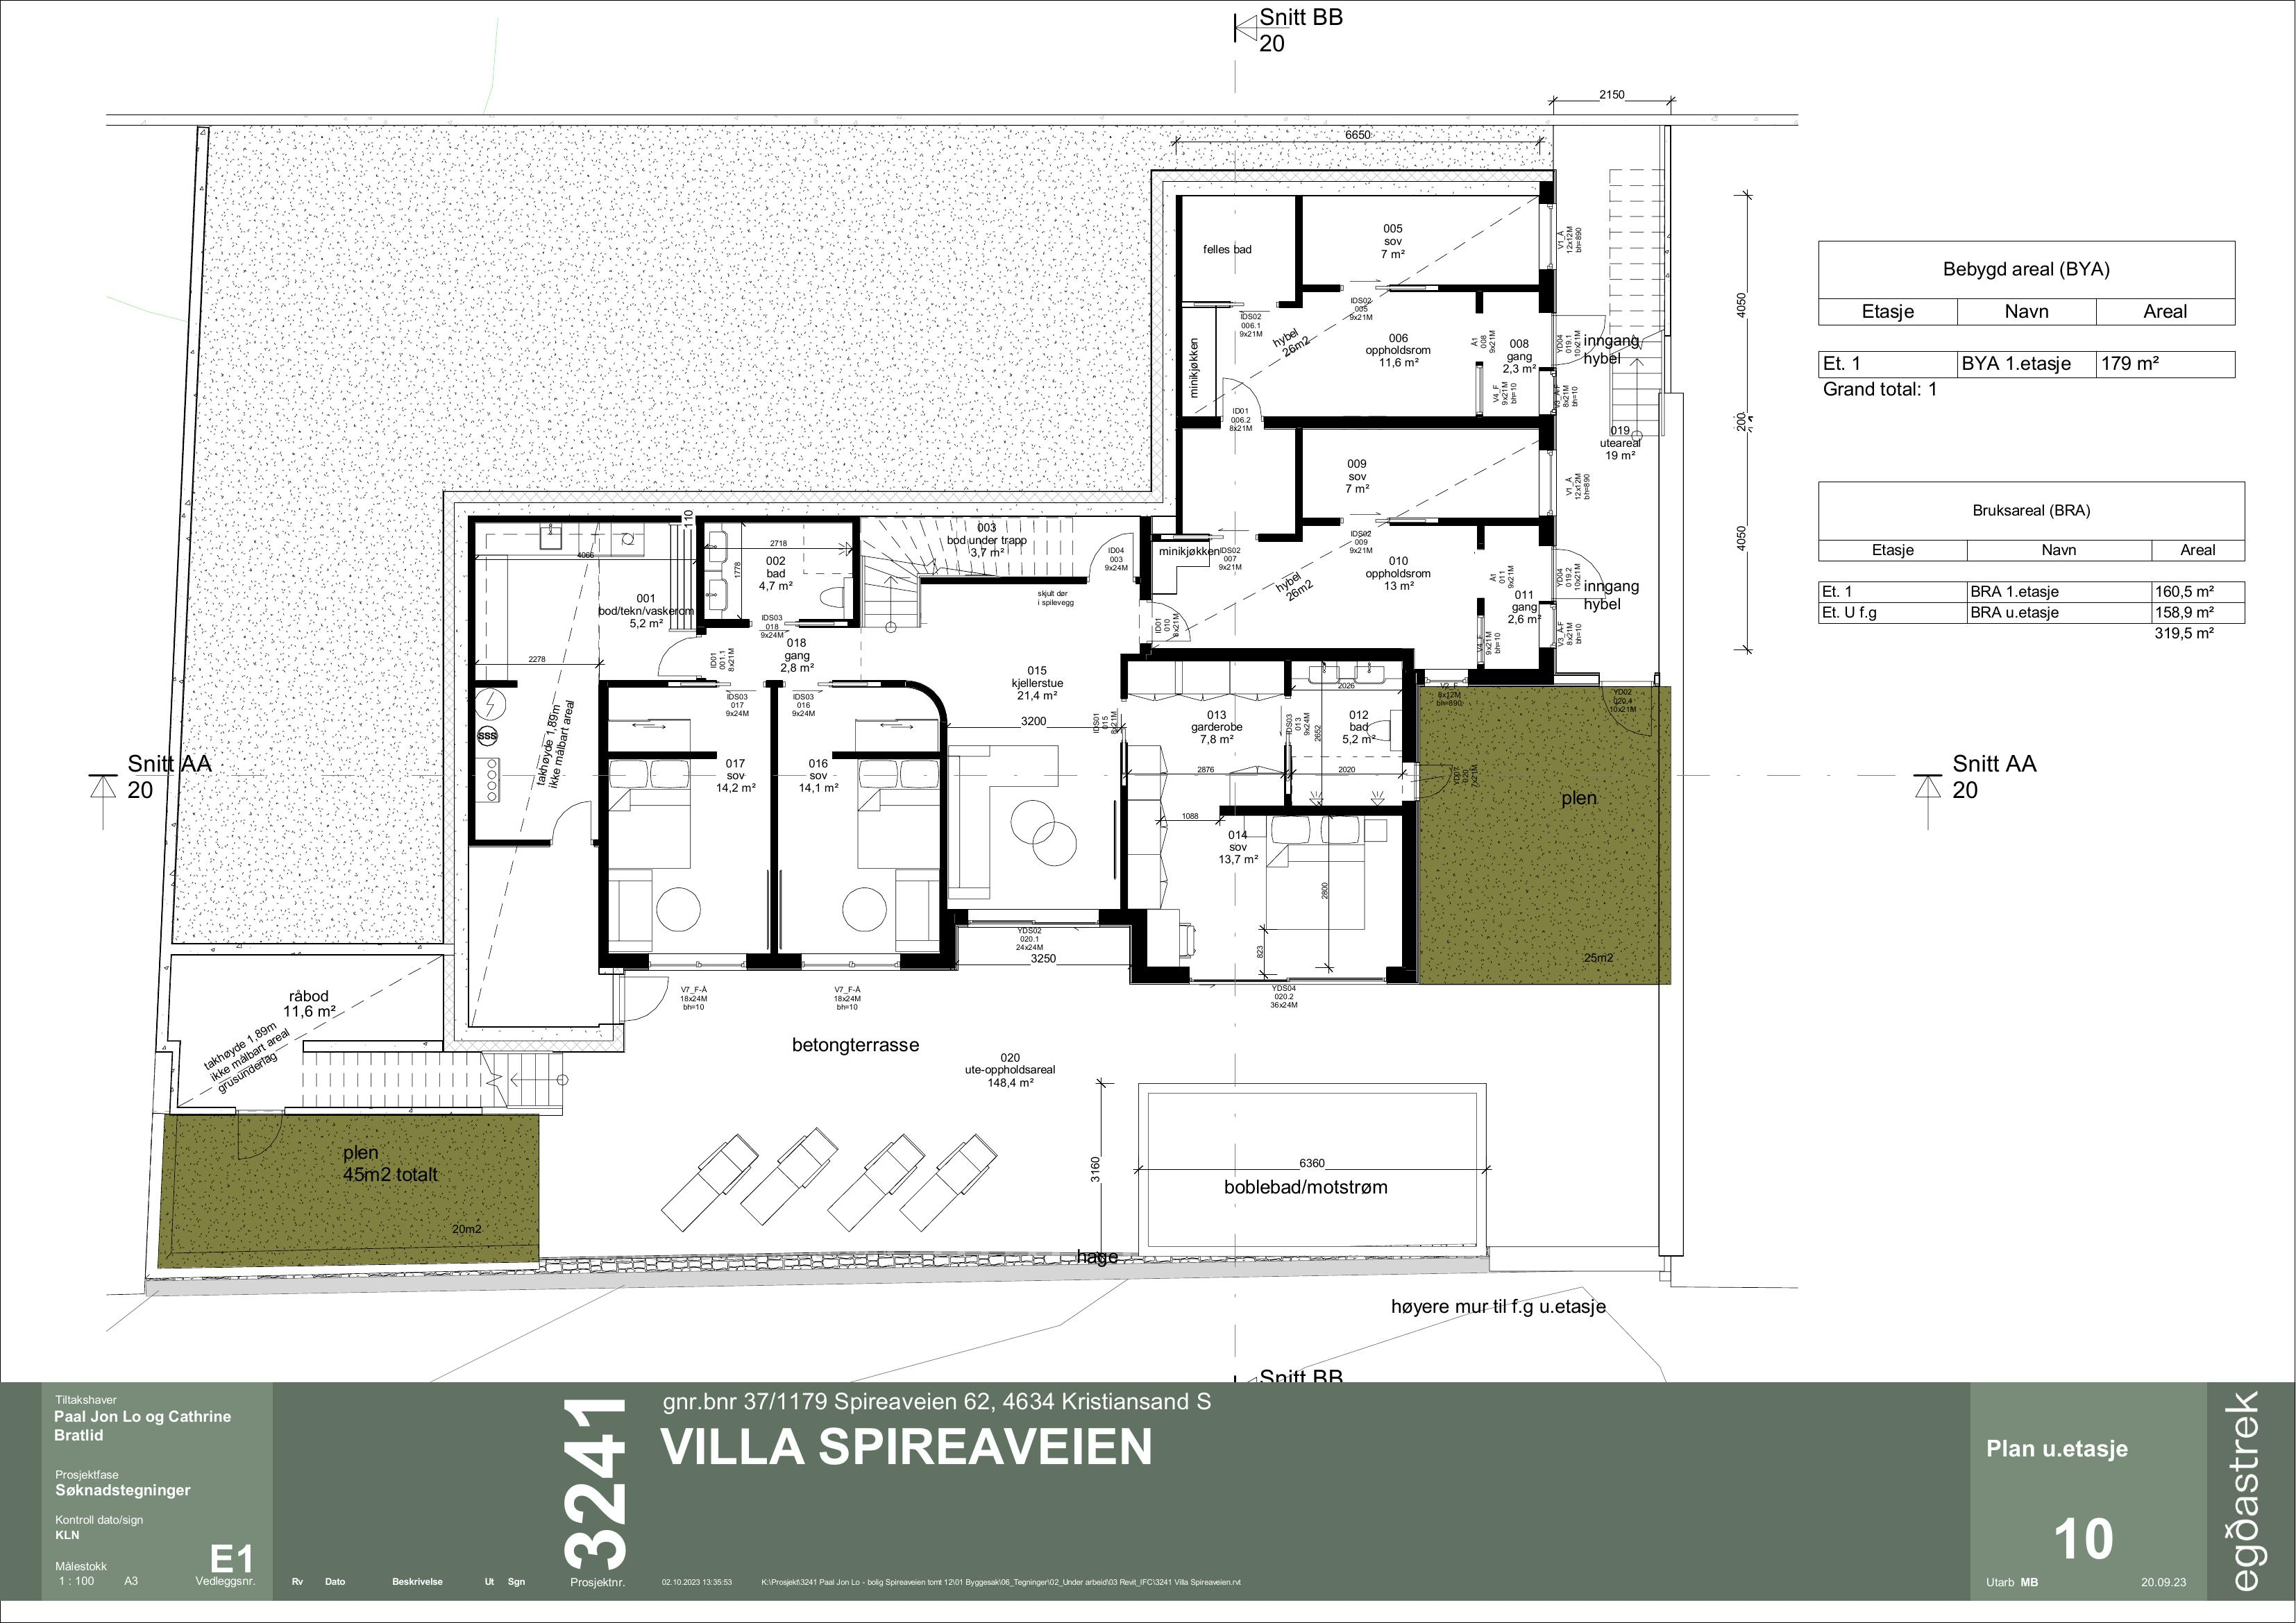plantegning: (135, 119, 1684, 1266)
